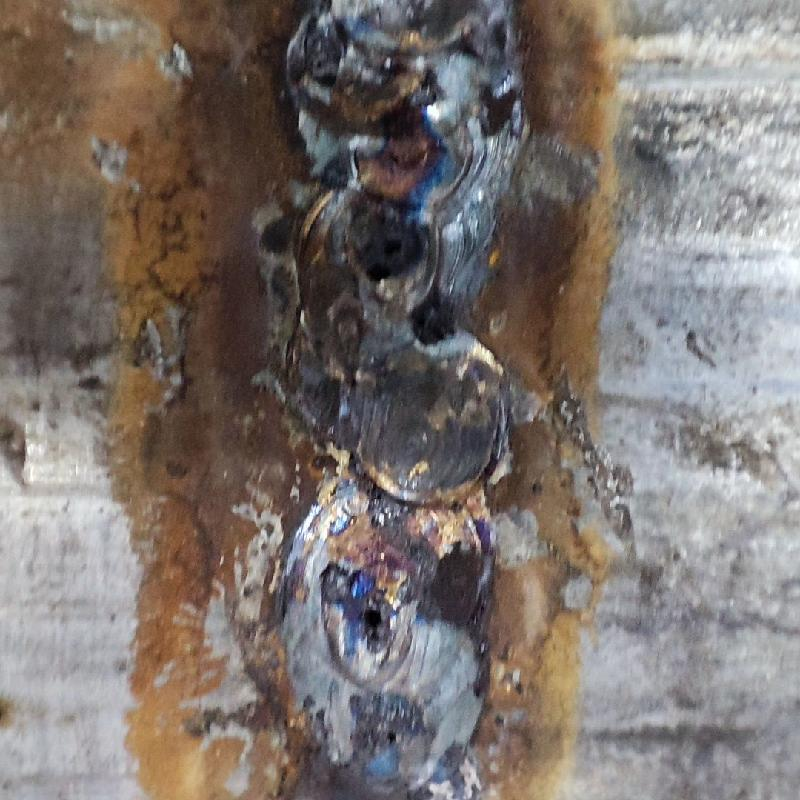Surface_pores: (336, 580, 400, 657), (350, 227, 409, 285)
crater: (266, 4, 516, 779)
